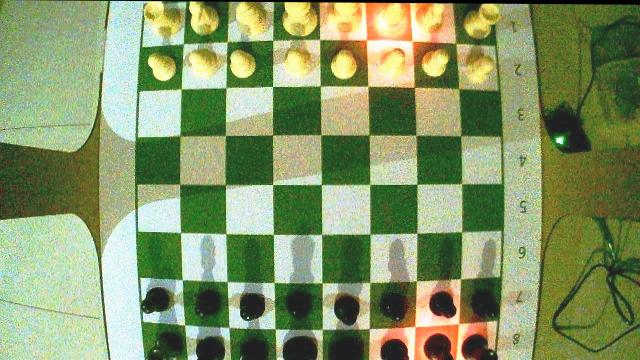piece: (463, 4, 498, 38), (283, 2, 318, 35), (145, 1, 179, 34), (234, 2, 268, 34), (189, 1, 219, 35), (149, 331, 184, 360), (460, 333, 496, 360), (470, 290, 498, 321), (465, 49, 492, 81), (141, 287, 174, 313), (283, 336, 318, 360), (189, 49, 219, 77), (429, 289, 459, 317), (424, 333, 454, 360), (331, 49, 358, 79), (328, 337, 363, 360), (331, 2, 359, 30), (421, 48, 449, 76), (333, 294, 359, 324), (380, 291, 404, 322), (148, 53, 175, 80), (379, 3, 404, 32), (196, 337, 225, 360), (240, 293, 263, 321), (231, 50, 254, 78), (417, 3, 439, 30), (286, 47, 308, 74), (196, 289, 218, 315), (286, 291, 308, 317), (381, 339, 408, 360), (240, 339, 263, 360), (380, 48, 398, 72)
